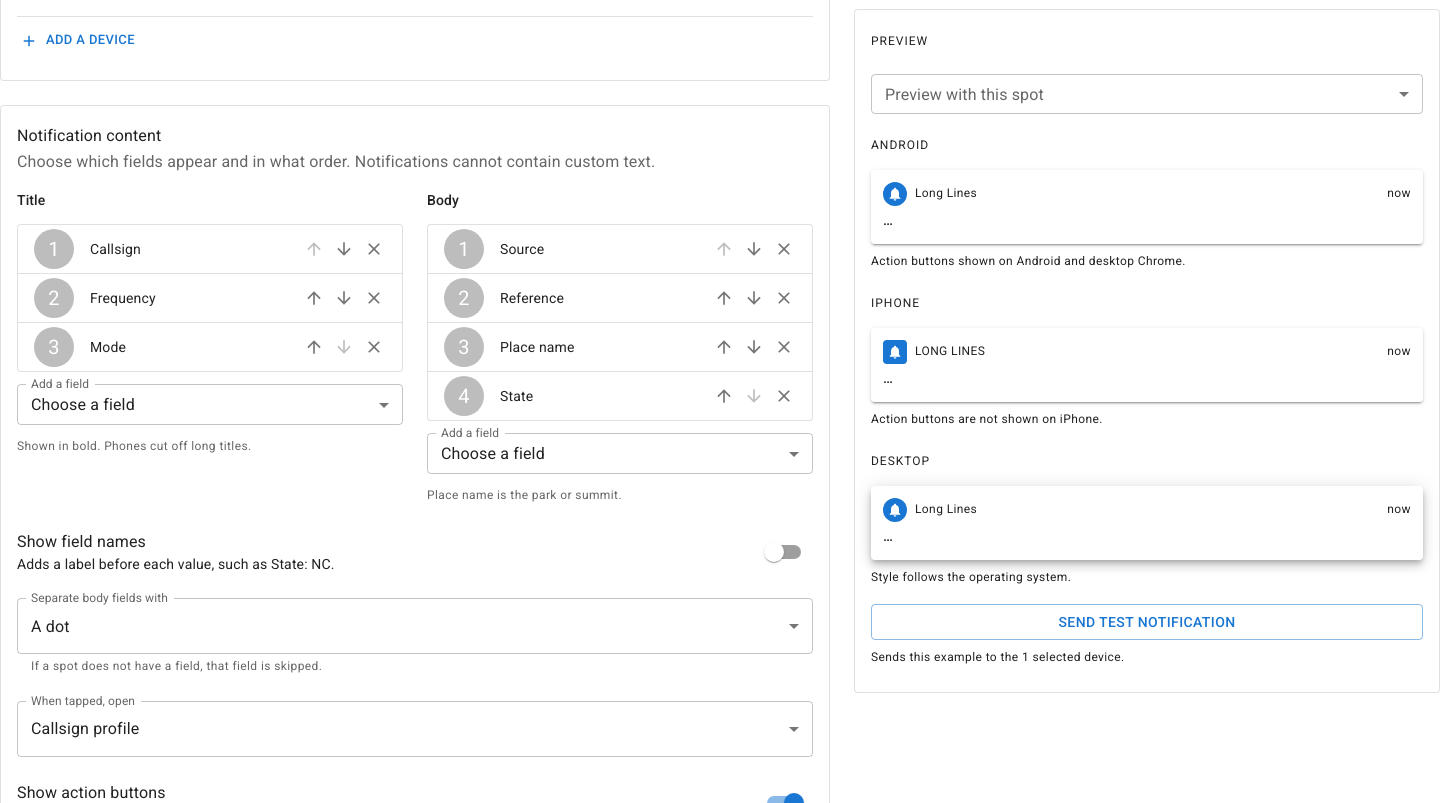
notification content › enables Send test only for a saved destination with members and no changes
(page scrolled)
expect the text "Sends this example to the 1 selected device." is shown: met, box [871, 650, 1125, 664]
Click the button "Send test notification": (1147, 622) [871, 603, 1423, 640]
(page scrolled)
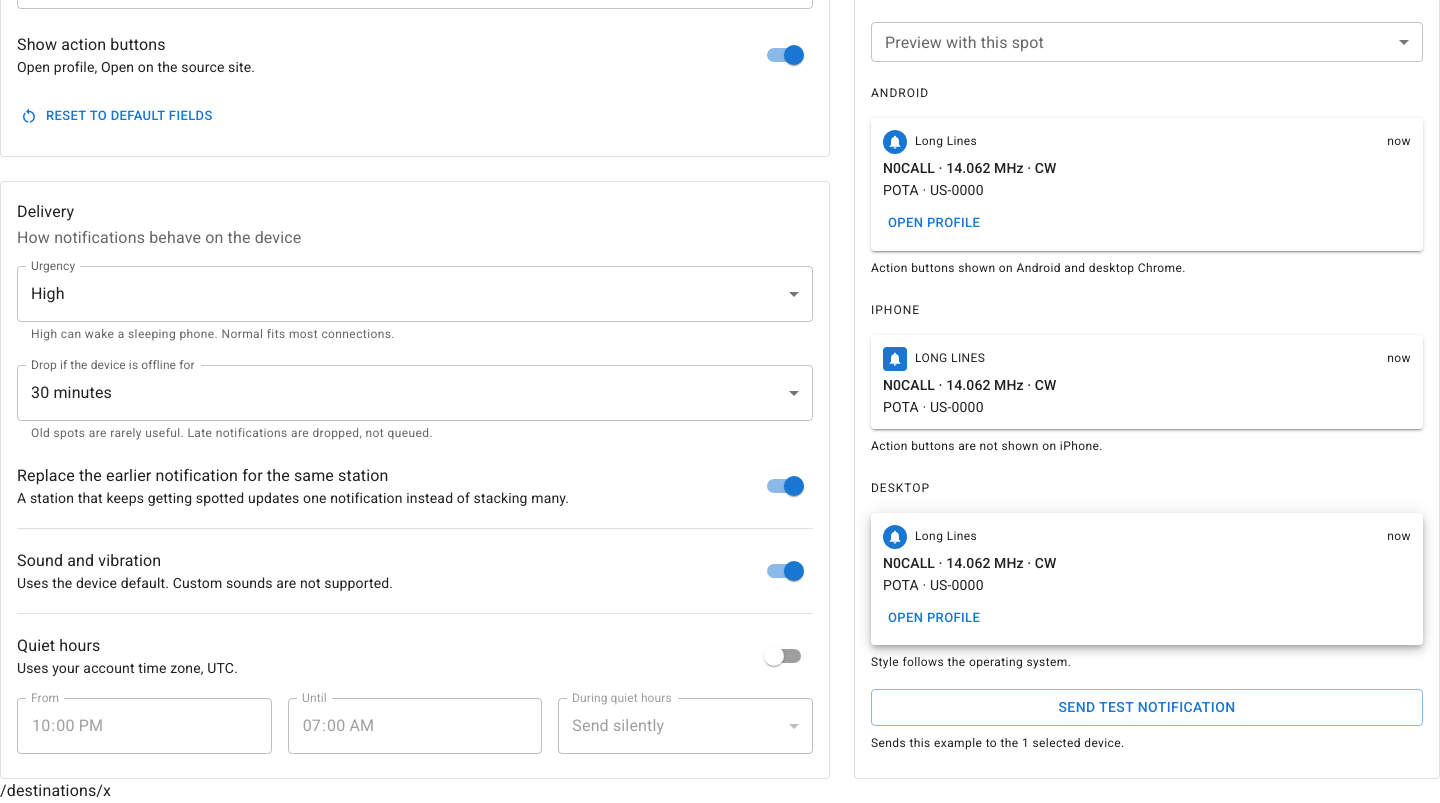
Click the switch named "Sound and vibration": (794, 571) [784, 561, 804, 581]
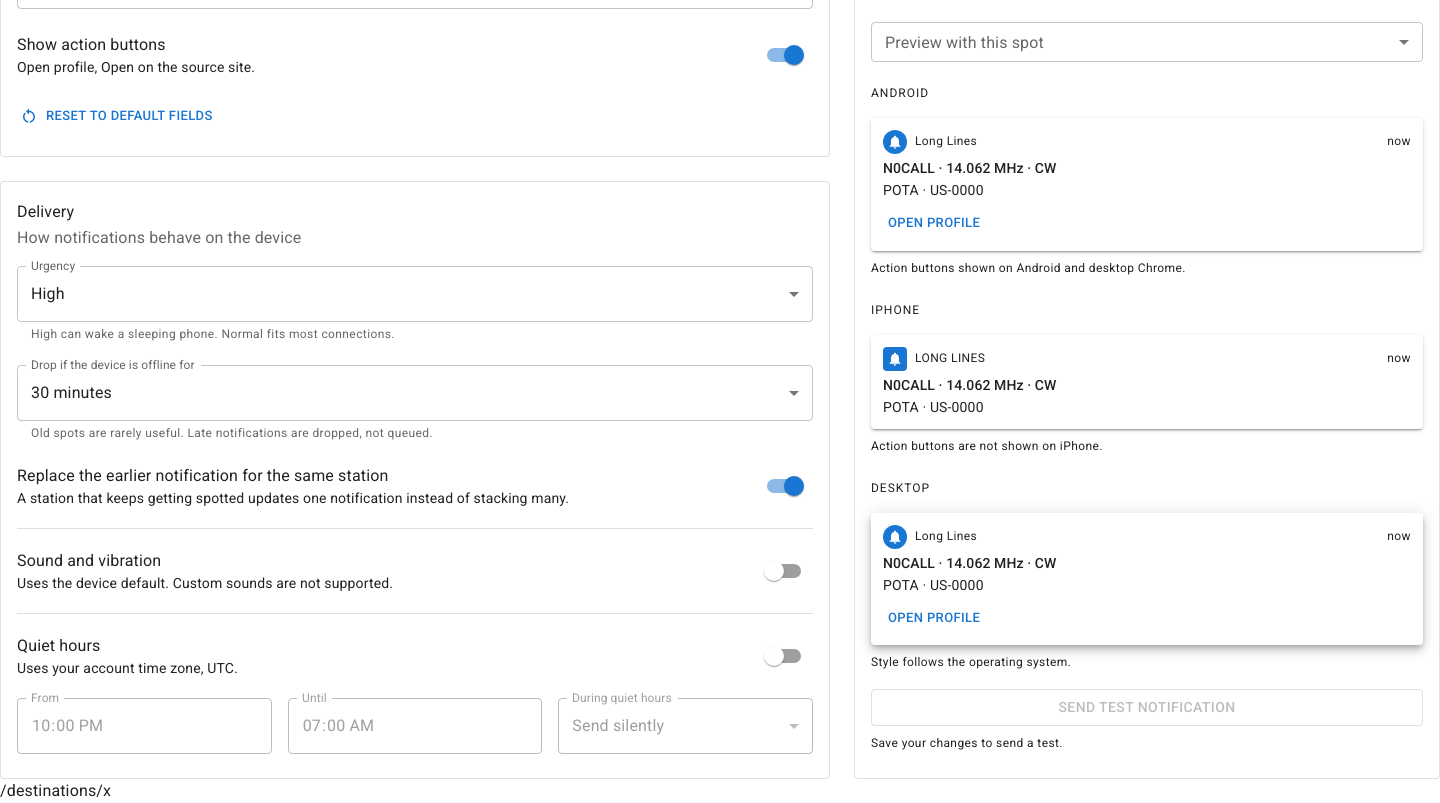
expect the text "Save your changes to send a test." is shown: met, box [871, 736, 1063, 750]
